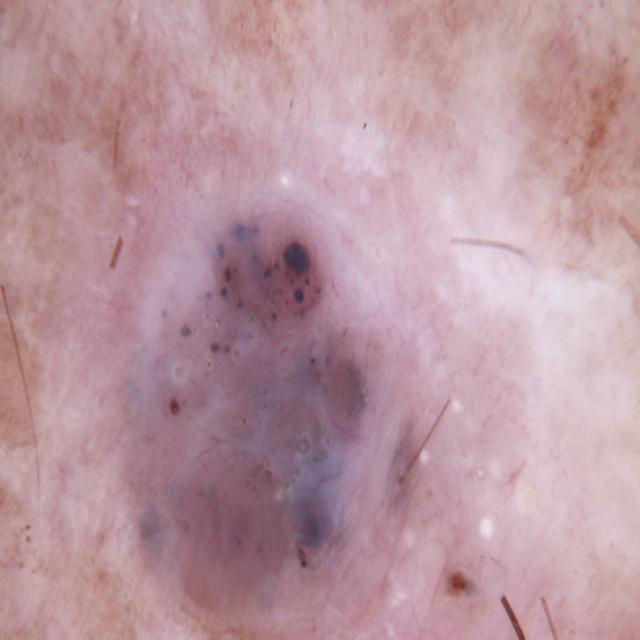Carcinoma: (80, 117, 421, 640)
